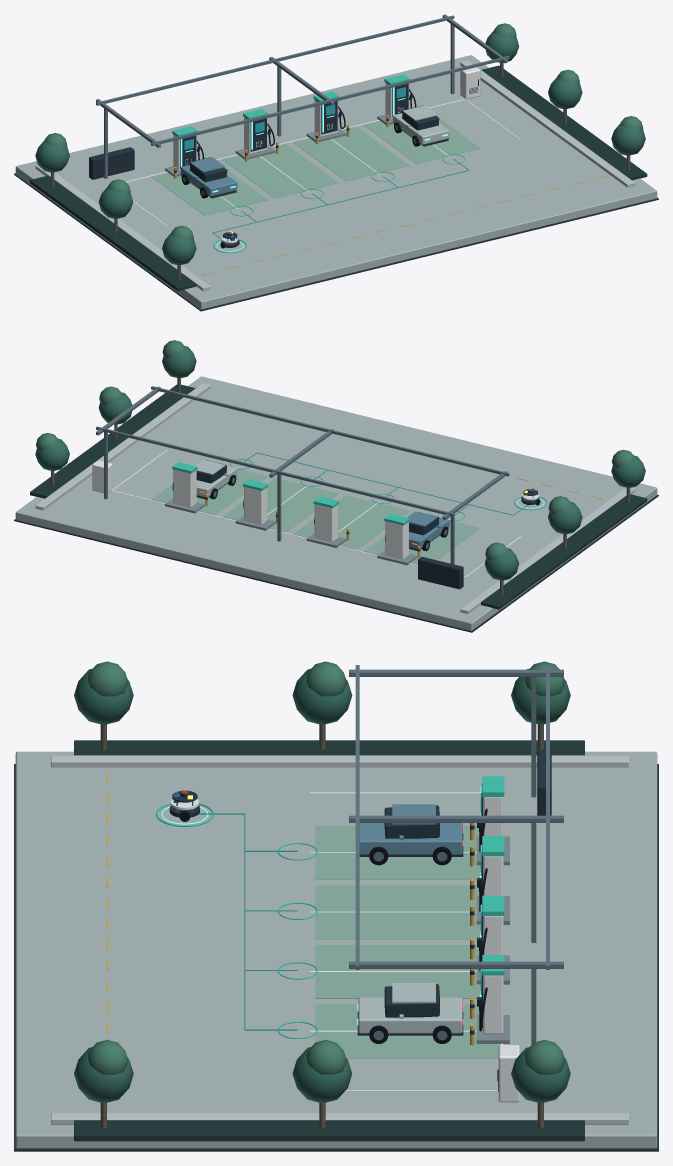
The model's file is 巡桩问诊-日间场景.glb.
3 views of the same model, one above another, from view 1: azimuth 30°, elevation 25°; view 2: azimuth 150°, elevation 25°; view 3: azimuth 270°, elevation 25° (orthographic). The views are drawn at different scales.
Visible parts, largest first — view 1: PatrolSite, SolarCanopy, CP_02, CP_03, CP_04, CP_01, site_part_40, site_part_48, site_part_34, site_part_51, site_part_37, site_part_315 (+3 smaller); view 2: PatrolSite, SolarCanopy, CP_02, CP_01, CP_04, CP_03, site_part_34, site_part_45, site_part_51, site_part_37, site_part_40, site_part_48 (+3 smaller); view 3: PatrolSite, SolarCanopy, site_part_315, CP_04, site_part_297, CP_02, CP_03, CP_01, site_part_51, site_part_40, site_part_45, site_part_48 (+13 smaller).
Part boxes in pixels (x1,y1,x2,y2): PatrolSite: (14, 55, 658, 311); SolarCanopy: (96, 14, 509, 178); CP_02: (235, 109, 278, 161); CP_03: (306, 91, 349, 144); CP_04: (377, 74, 416, 127); CP_01: (165, 126, 204, 178); site_part_40: (162, 233, 196, 265); site_part_48: (548, 77, 582, 109); site_part_34: (35, 141, 69, 172); site_part_51: (611, 124, 645, 155); site_part_37: (98, 187, 133, 219); site_part_315: (392, 113, 449, 144); PatrolSite: (14, 376, 658, 632); SolarCanopy: (96, 386, 509, 564); CP_02: (306, 496, 349, 547); CP_01: (377, 514, 420, 565); CP_04: (165, 462, 207, 513); CP_03: (235, 479, 277, 530); site_part_34: (484, 548, 519, 580); site_part_45: (35, 438, 69, 470); site_part_51: (162, 346, 196, 378); site_part_37: (548, 502, 582, 534); site_part_40: (611, 455, 645, 487); site_part_48: (98, 392, 132, 424); PatrolSite: (14, 740, 658, 1151); SolarCanopy: (349, 665, 563, 1044); site_part_315: (358, 997, 462, 1033); CP_04: (470, 955, 509, 1045); site_part_297: (359, 823, 462, 854); CP_02: (470, 836, 509, 925); CP_03: (470, 895, 509, 985); CP_01: (470, 776, 509, 866); site_part_51: (74, 1047, 133, 1103); site_part_40: (74, 668, 133, 724); site_part_45: (511, 1047, 570, 1103); site_part_48: (292, 1047, 352, 1103).
Size of the model in its own units: 27.1 by 4.48 by 18.3.
